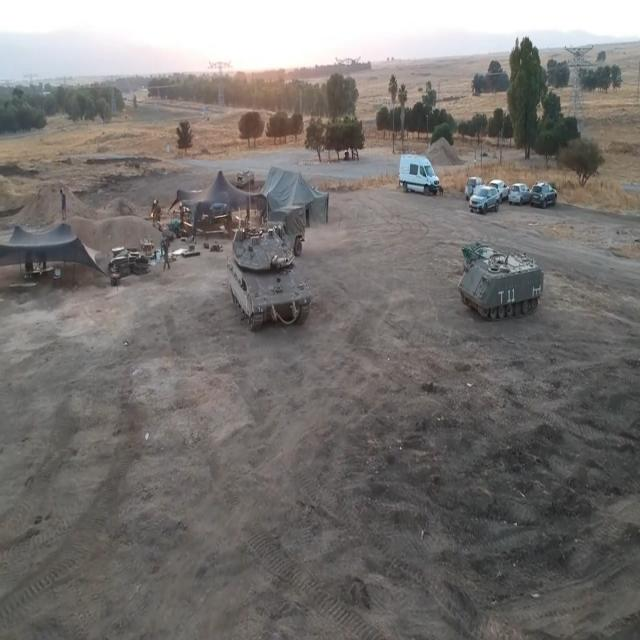tank: (228, 223, 325, 326)
